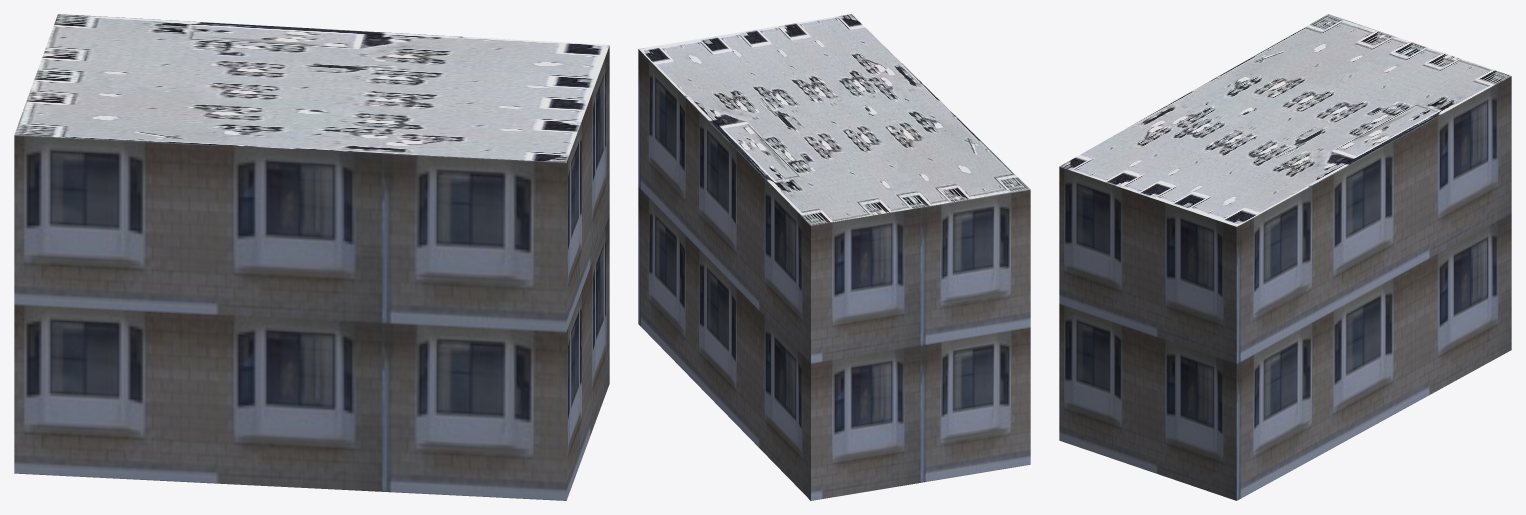
The model's file is ResTex__2232.fbx.
3 renders of one model, left to right at view 1: azimuth 30°, elevation 25°; view 2: azimuth 150°, elevation 25°; view 3: azimuth 270°, elevation 25°, orthographic. The views are drawn at different scales.
Parts seen in each view (by area): view 1: CityEngineMaterial_3_m, CityEngineMaterial_4_m; view 2: CityEngineMaterial_3_m, CityEngineMaterial_4_m; view 3: CityEngineMaterial_3_m, CityEngineMaterial_4_m.
Boxes of the visible parts, x1,y1,x2,y2 form: CityEngineMaterial_3_m: [14, 46, 609, 500]; CityEngineMaterial_4_m: [14, 14, 609, 162]; CityEngineMaterial_3_m: [638, 49, 1030, 500]; CityEngineMaterial_4_m: [639, 14, 1030, 225]; CityEngineMaterial_3_m: [1059, 76, 1511, 500]; CityEngineMaterial_4_m: [1059, 14, 1510, 226].
Bounding box in the file's own units: 10 × 6 × 8.98.
2 materials, 2 textured.
